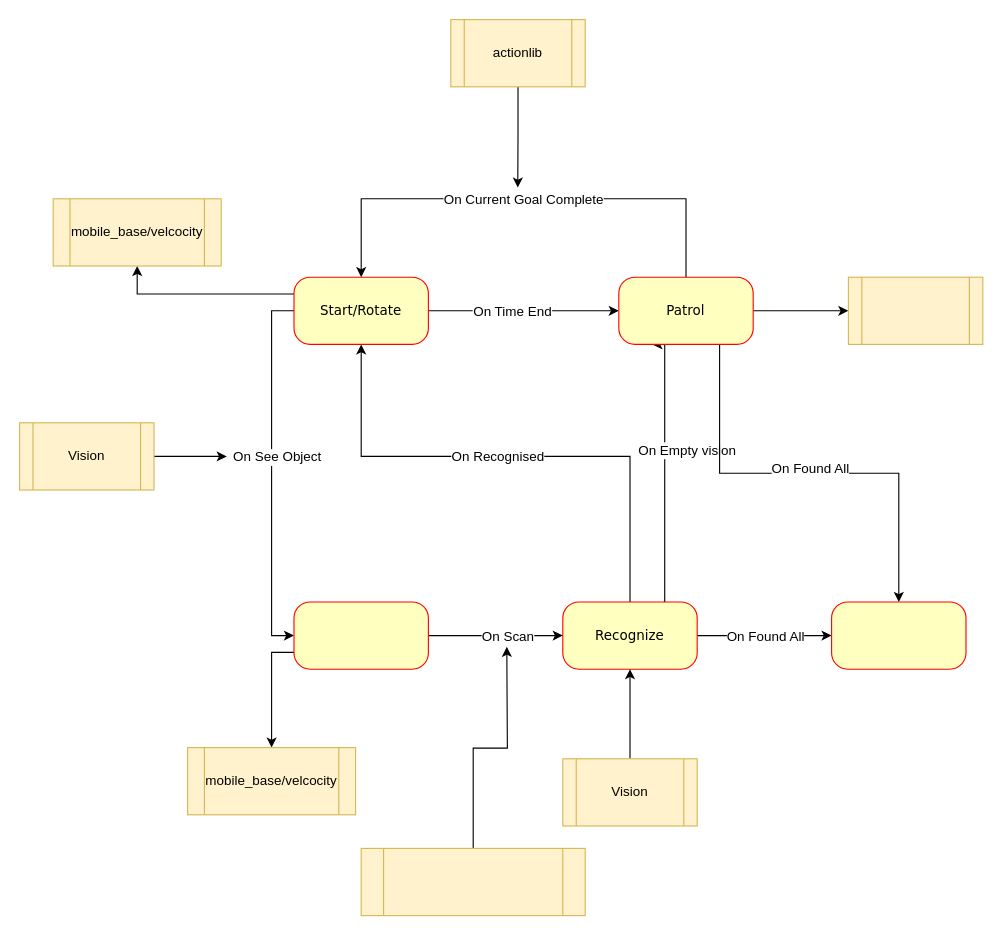
The diagram is 1002 pixels wide and 935 high, and some of its shapes have lost their labels. The centre of each missing label's shape, as x and y in pixels:
"/scan" belongs at pixel 472 881.
"Idle" belongs at pixel 898 635.
"Move" belongs at pixel 360 635.
"Simple Goal" belongs at pixel 915 310.
